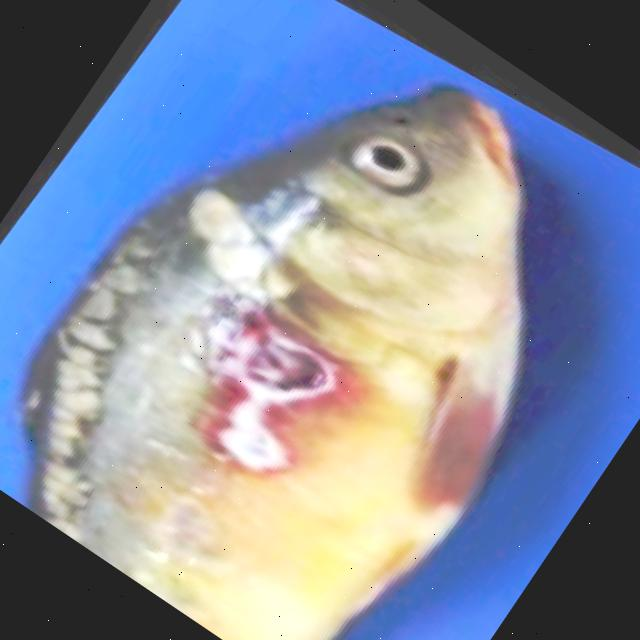Columnaris Disease: (20, 89, 522, 640), (21, 89, 522, 640)
